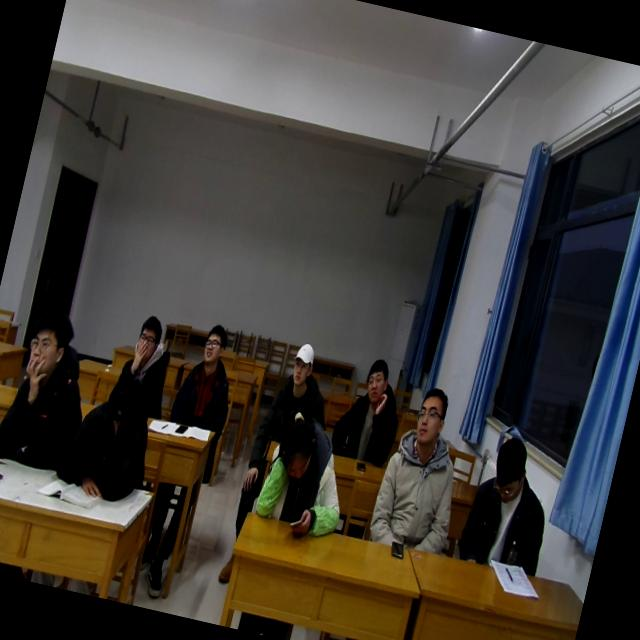bow: (48, 356, 168, 508), (247, 397, 364, 546)
down: (480, 428, 536, 511), (270, 413, 326, 487)
lookup: (17, 296, 80, 389), (408, 379, 455, 451), (125, 307, 167, 376), (358, 349, 396, 408), (283, 337, 322, 394), (194, 314, 232, 367)
sit: (362, 374, 481, 562), (0, 284, 108, 482), (452, 424, 568, 581), (325, 346, 415, 471), (164, 313, 248, 434), (102, 303, 184, 426), (253, 336, 337, 453)
